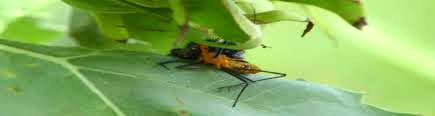Helopeltis-insect: (169, 38, 264, 81)
